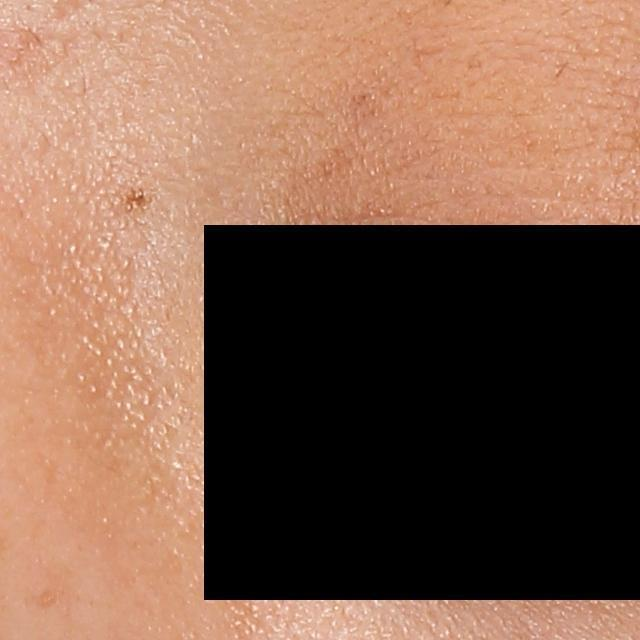nevus: (122, 183, 150, 214)
